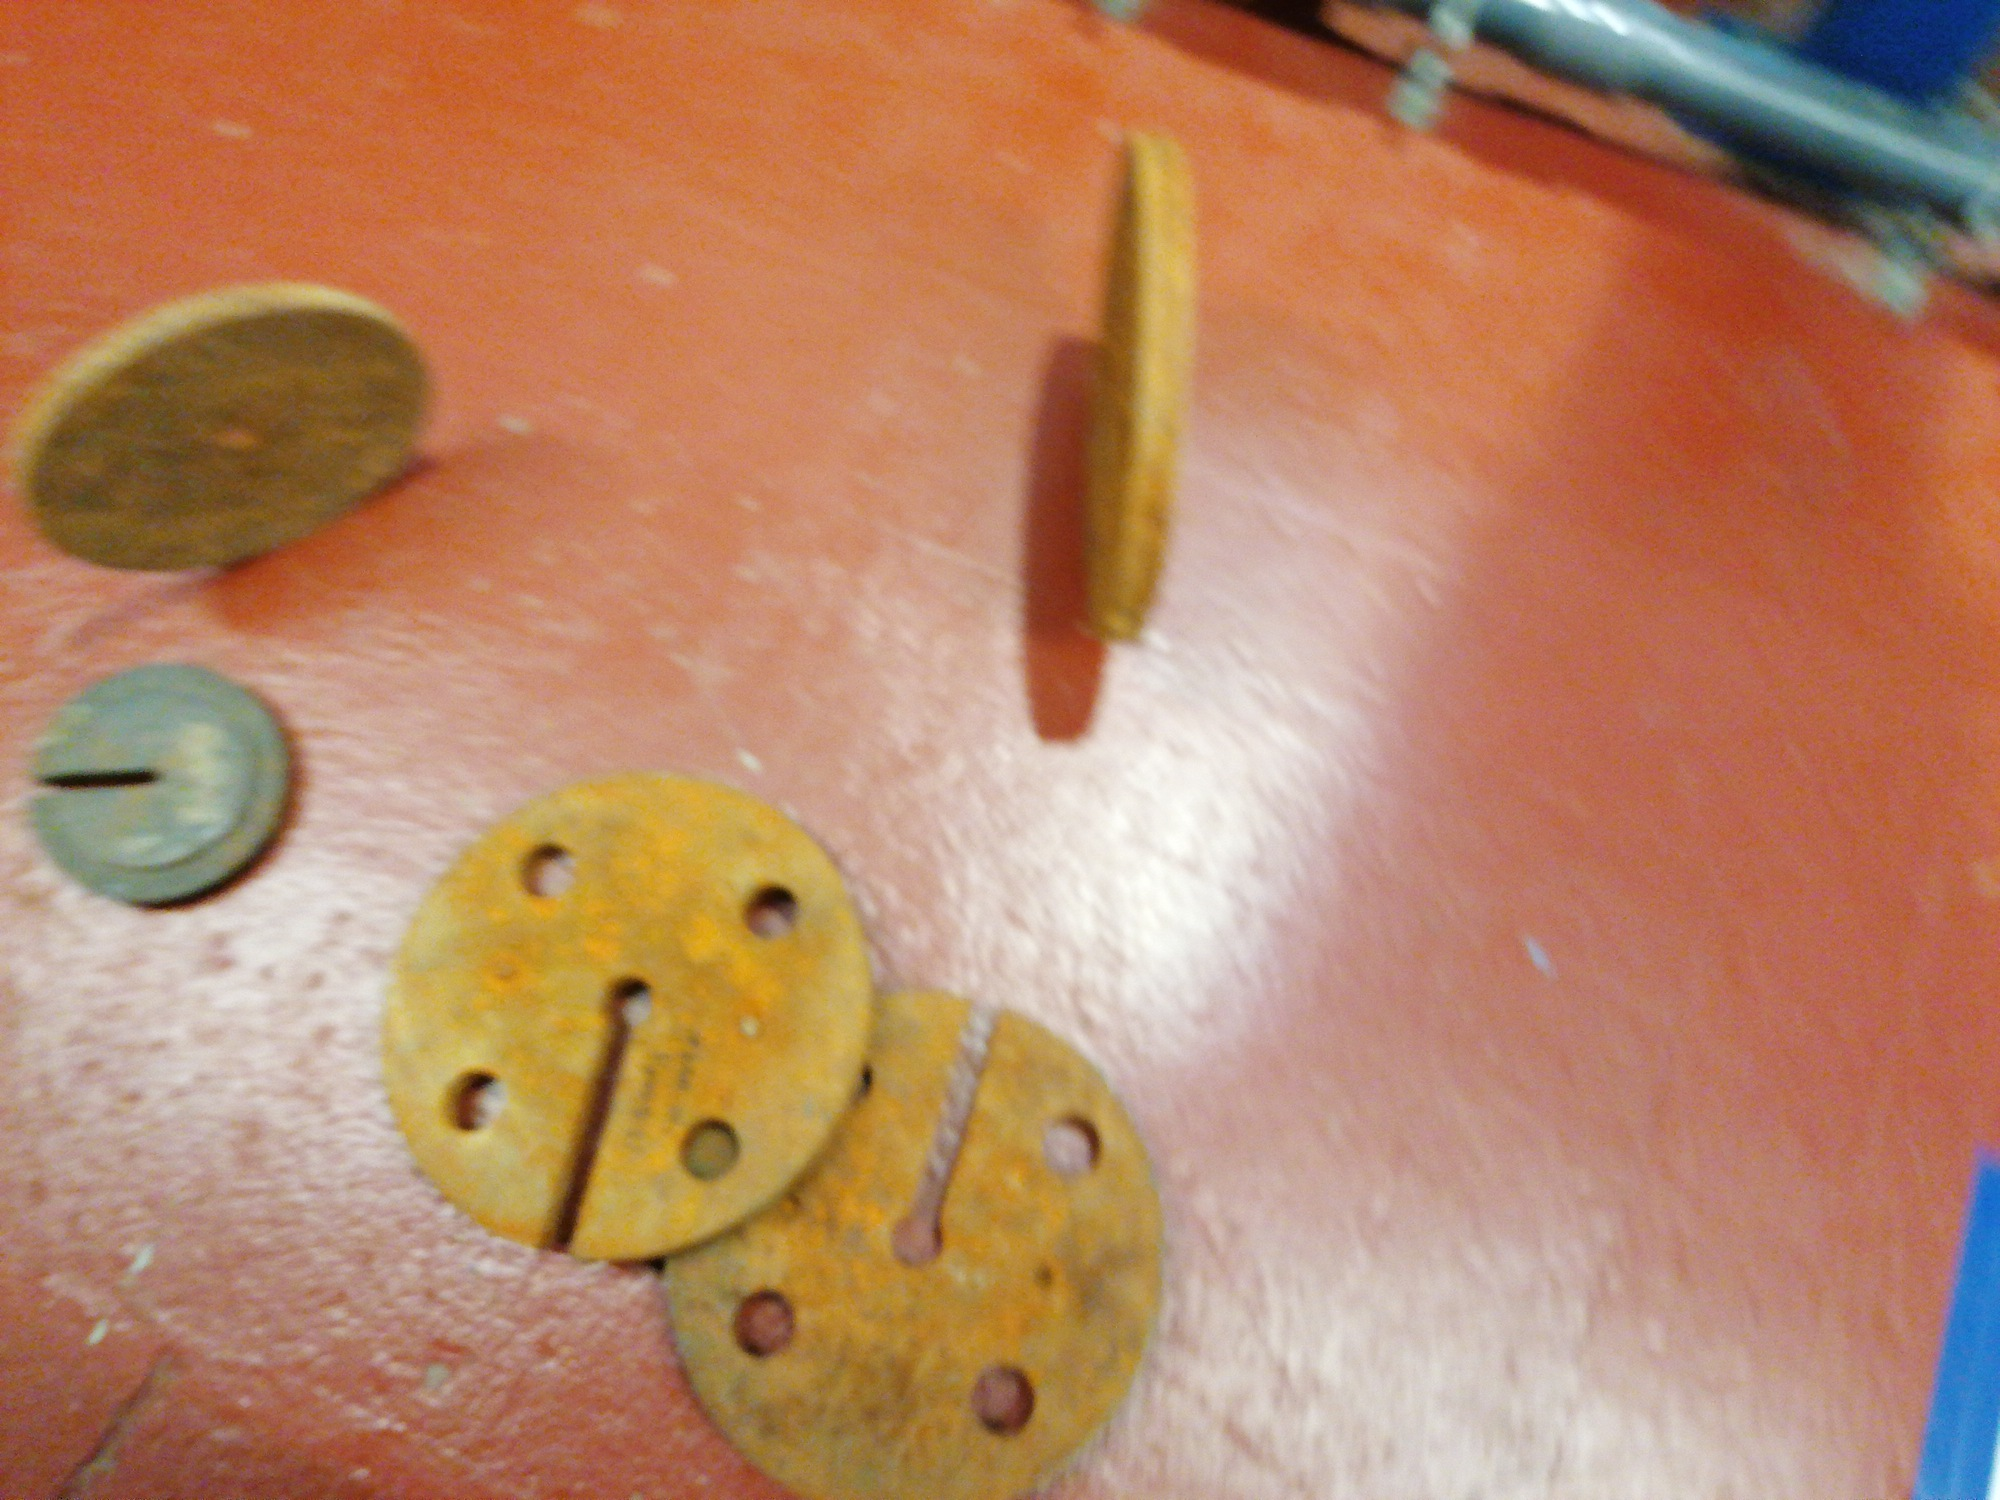flange: (663, 986, 1165, 1498), (380, 774, 876, 1264), (13, 276, 439, 575), (1072, 128, 1205, 652), (28, 659, 304, 909)
